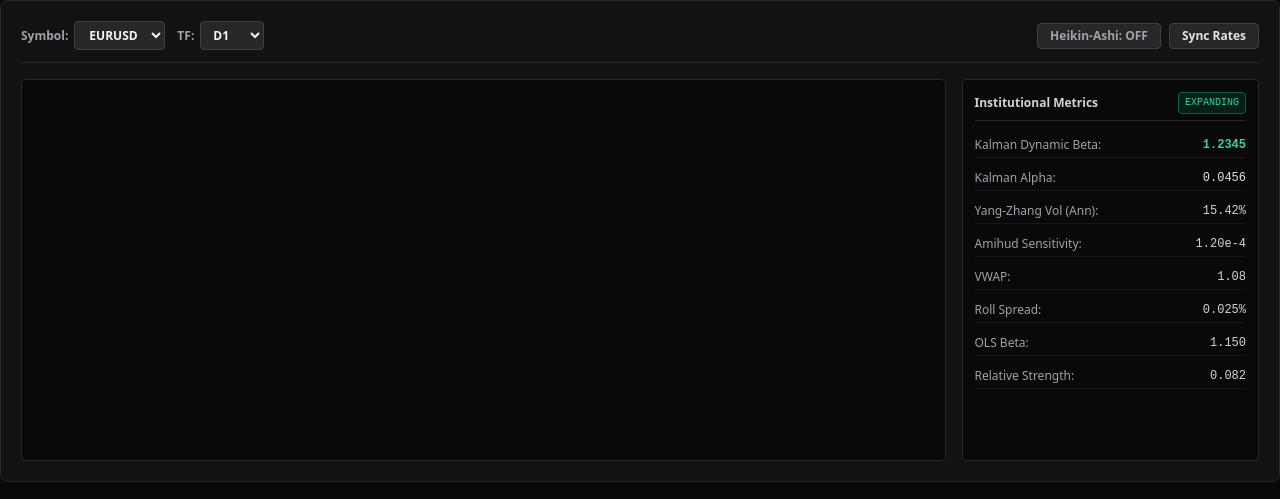
Test: ChartWorkspace › toggles Heikin-Ashi client-side without backend requests (Scenario 8)
# Toggle Heikin-Ashi ON
Click the button with test id "heikin-ashi-toggle" at (1099, 36), box x1=1037 y1=22 x2=1161 y2=48
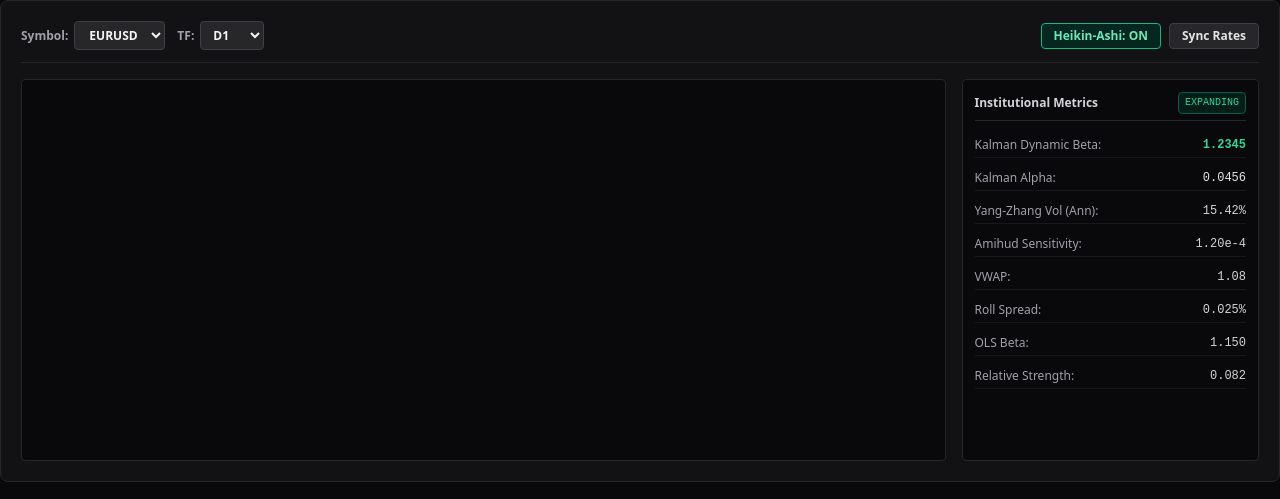
Now the button with test id "heikin-ashi-toggle" reads "Heikin-Ashi: ON"
Click the button with test id "heikin-ashi-toggle" at (1101, 36), box x1=1040 y1=22 x2=1161 y2=48
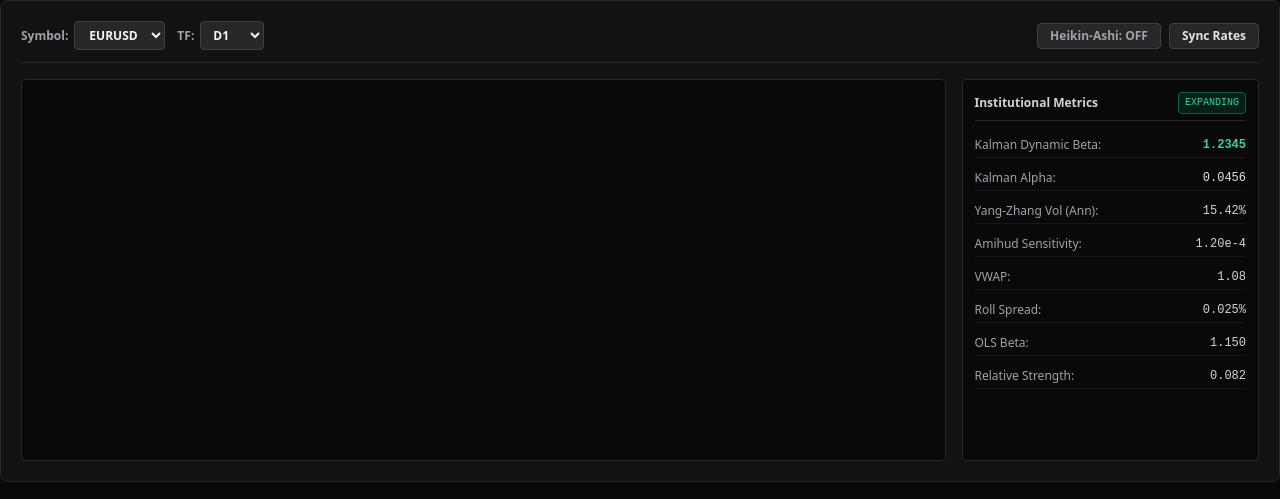
Now the button with test id "heikin-ashi-toggle" reads "Heikin-Ashi: OFF", box x1=1037 y1=22 x2=1161 y2=48
